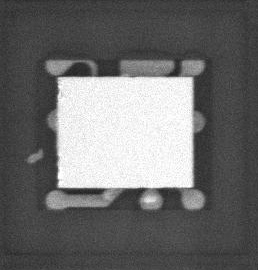DIE_INK: (22, 147, 44, 166)
